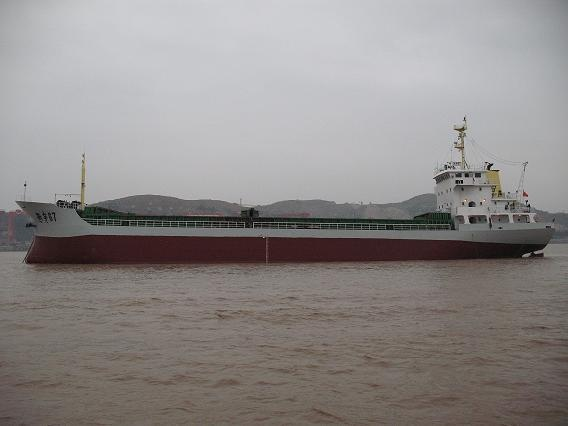Cargoship: (14, 116, 563, 279)
